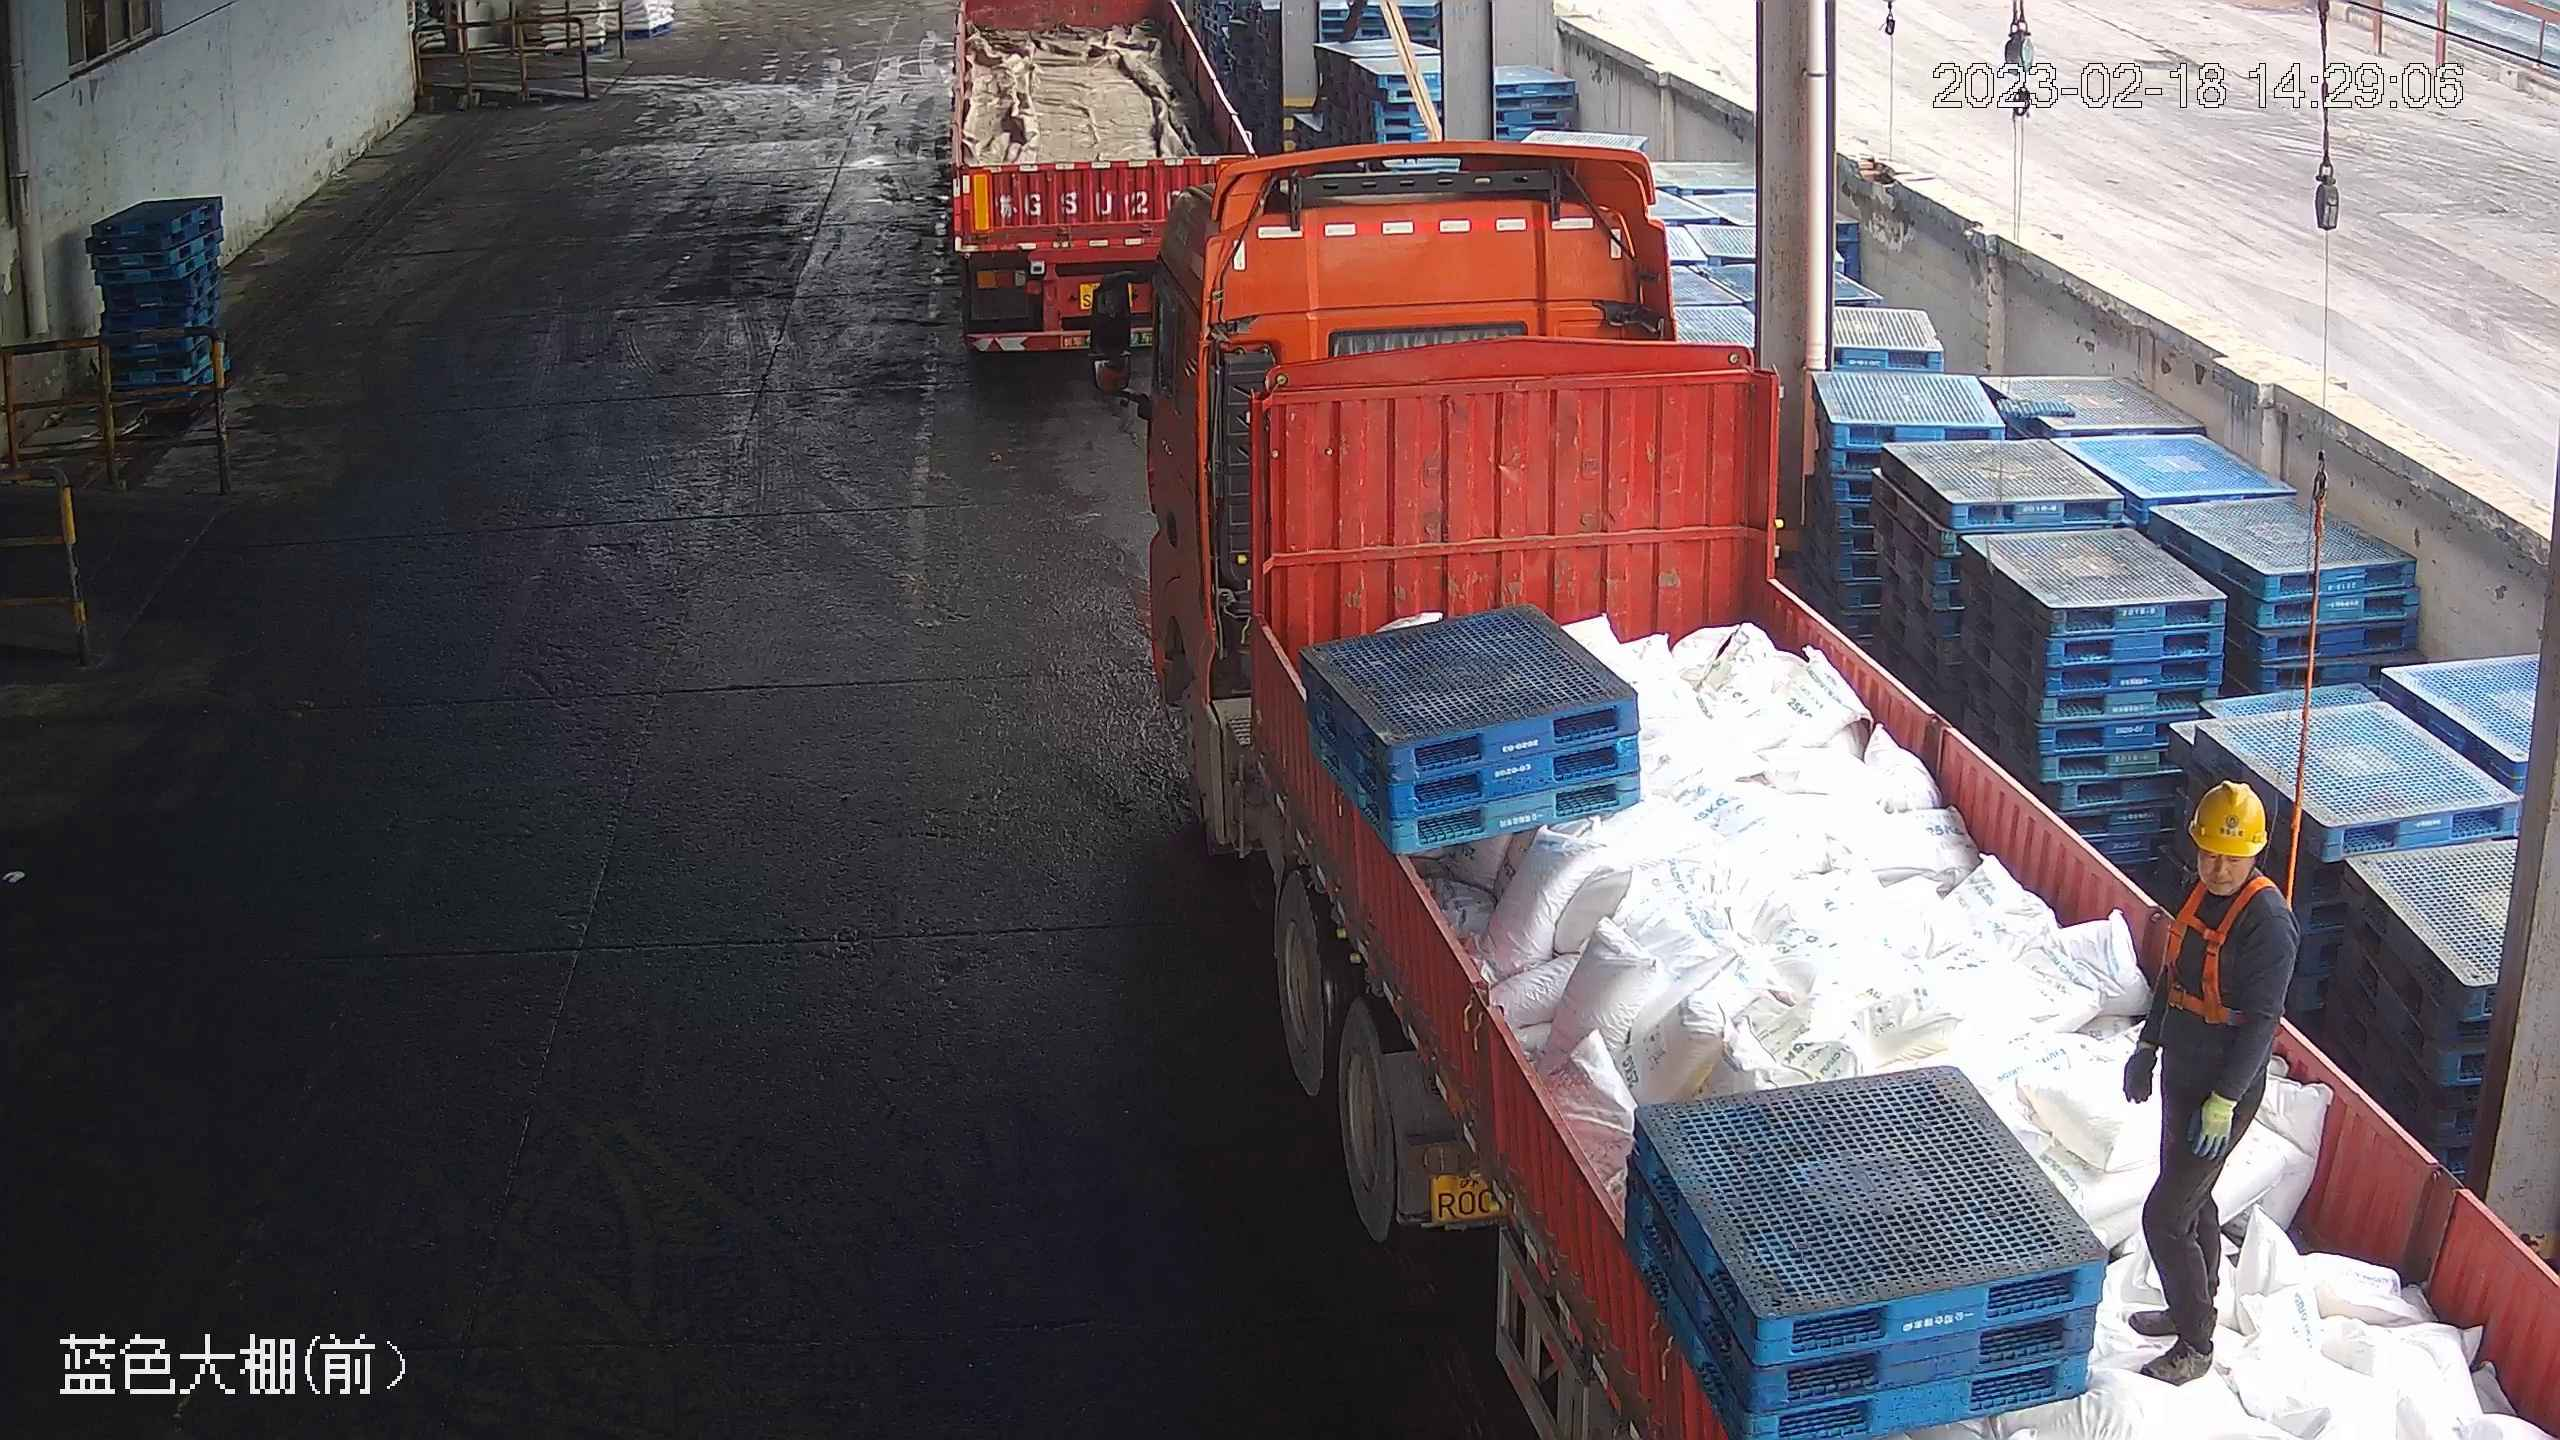belt: (2156, 874, 2289, 1024)
head: (2151, 777, 2294, 955)
helmet: (2188, 777, 2269, 856)
people: (2112, 774, 2298, 1386)
truck: (1068, 155, 2551, 1440), (924, 1, 1279, 380)
